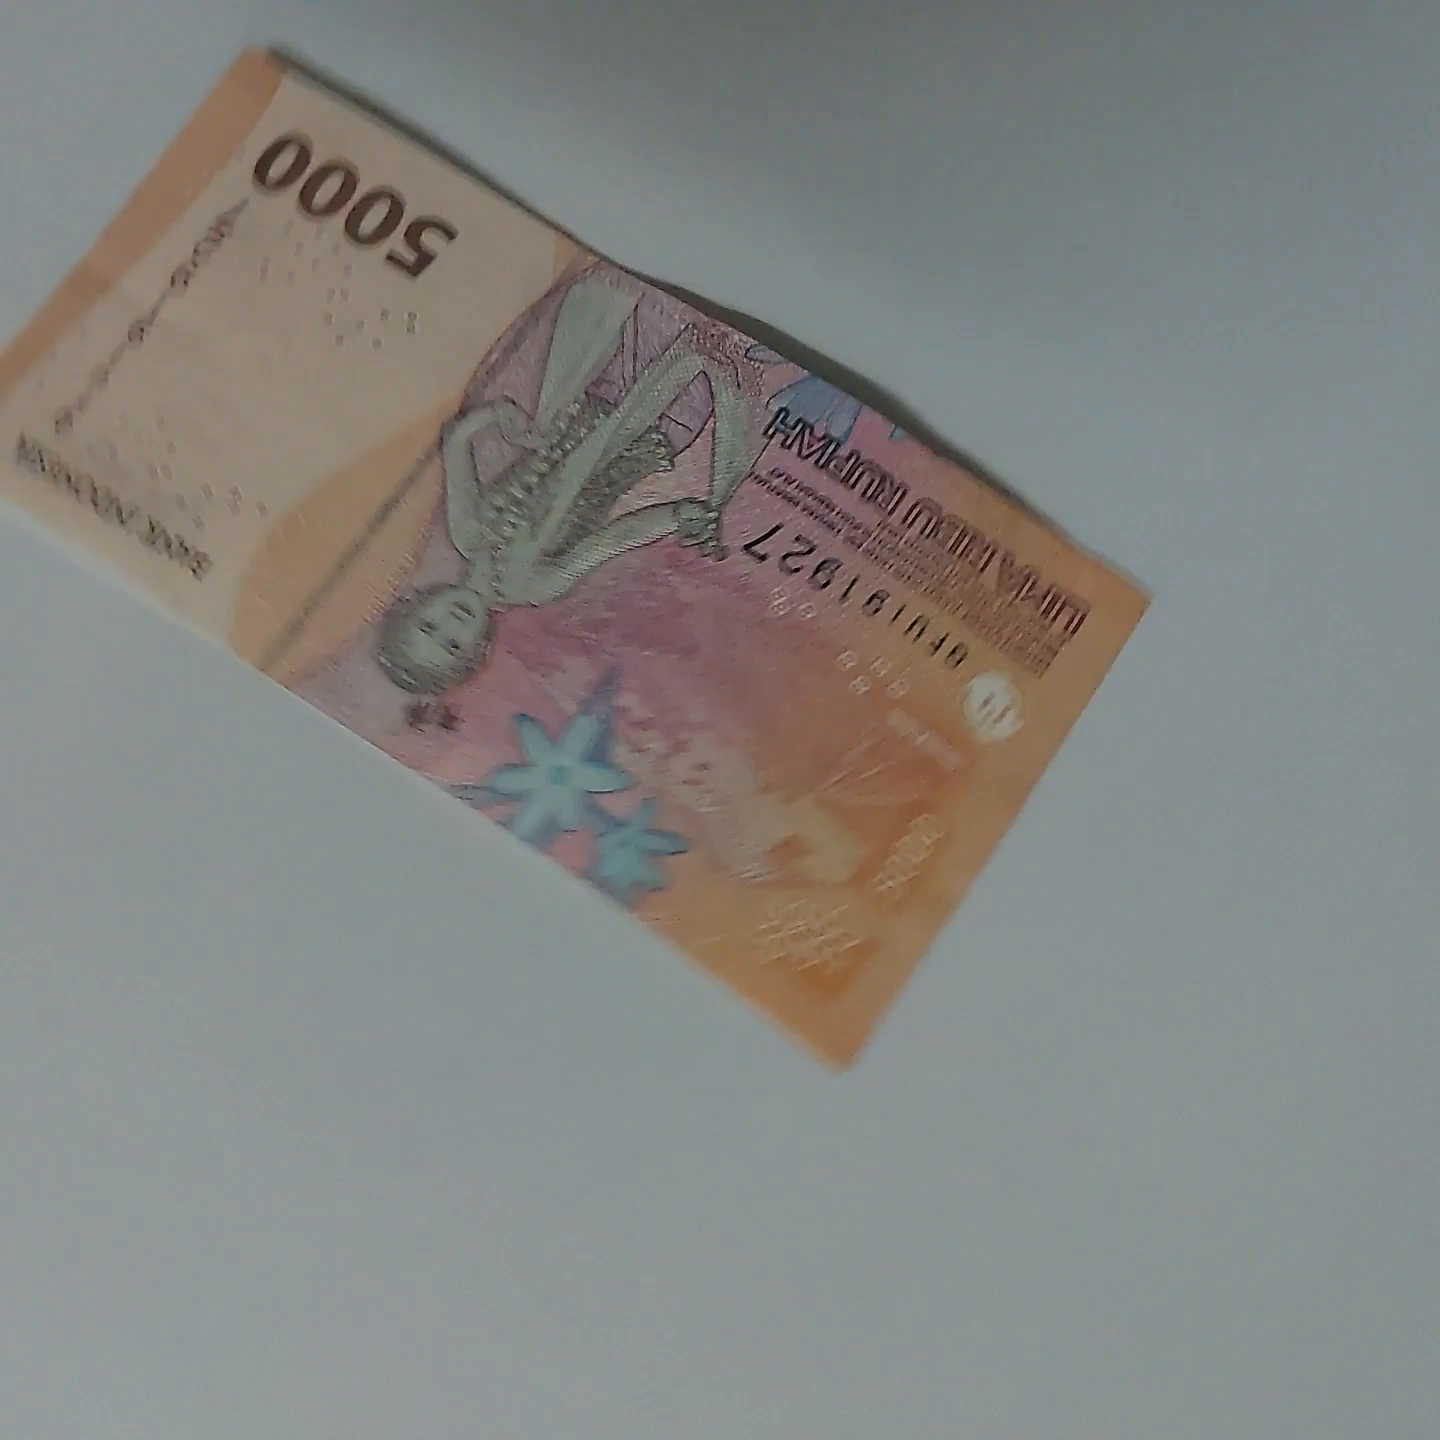5k: (338, 26, 1338, 630)
